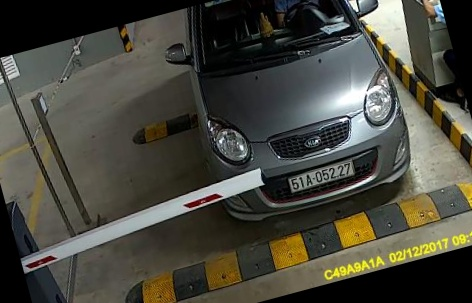plate: (281, 158, 364, 198)
